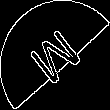M_SE: (23, 21, 87, 89)
